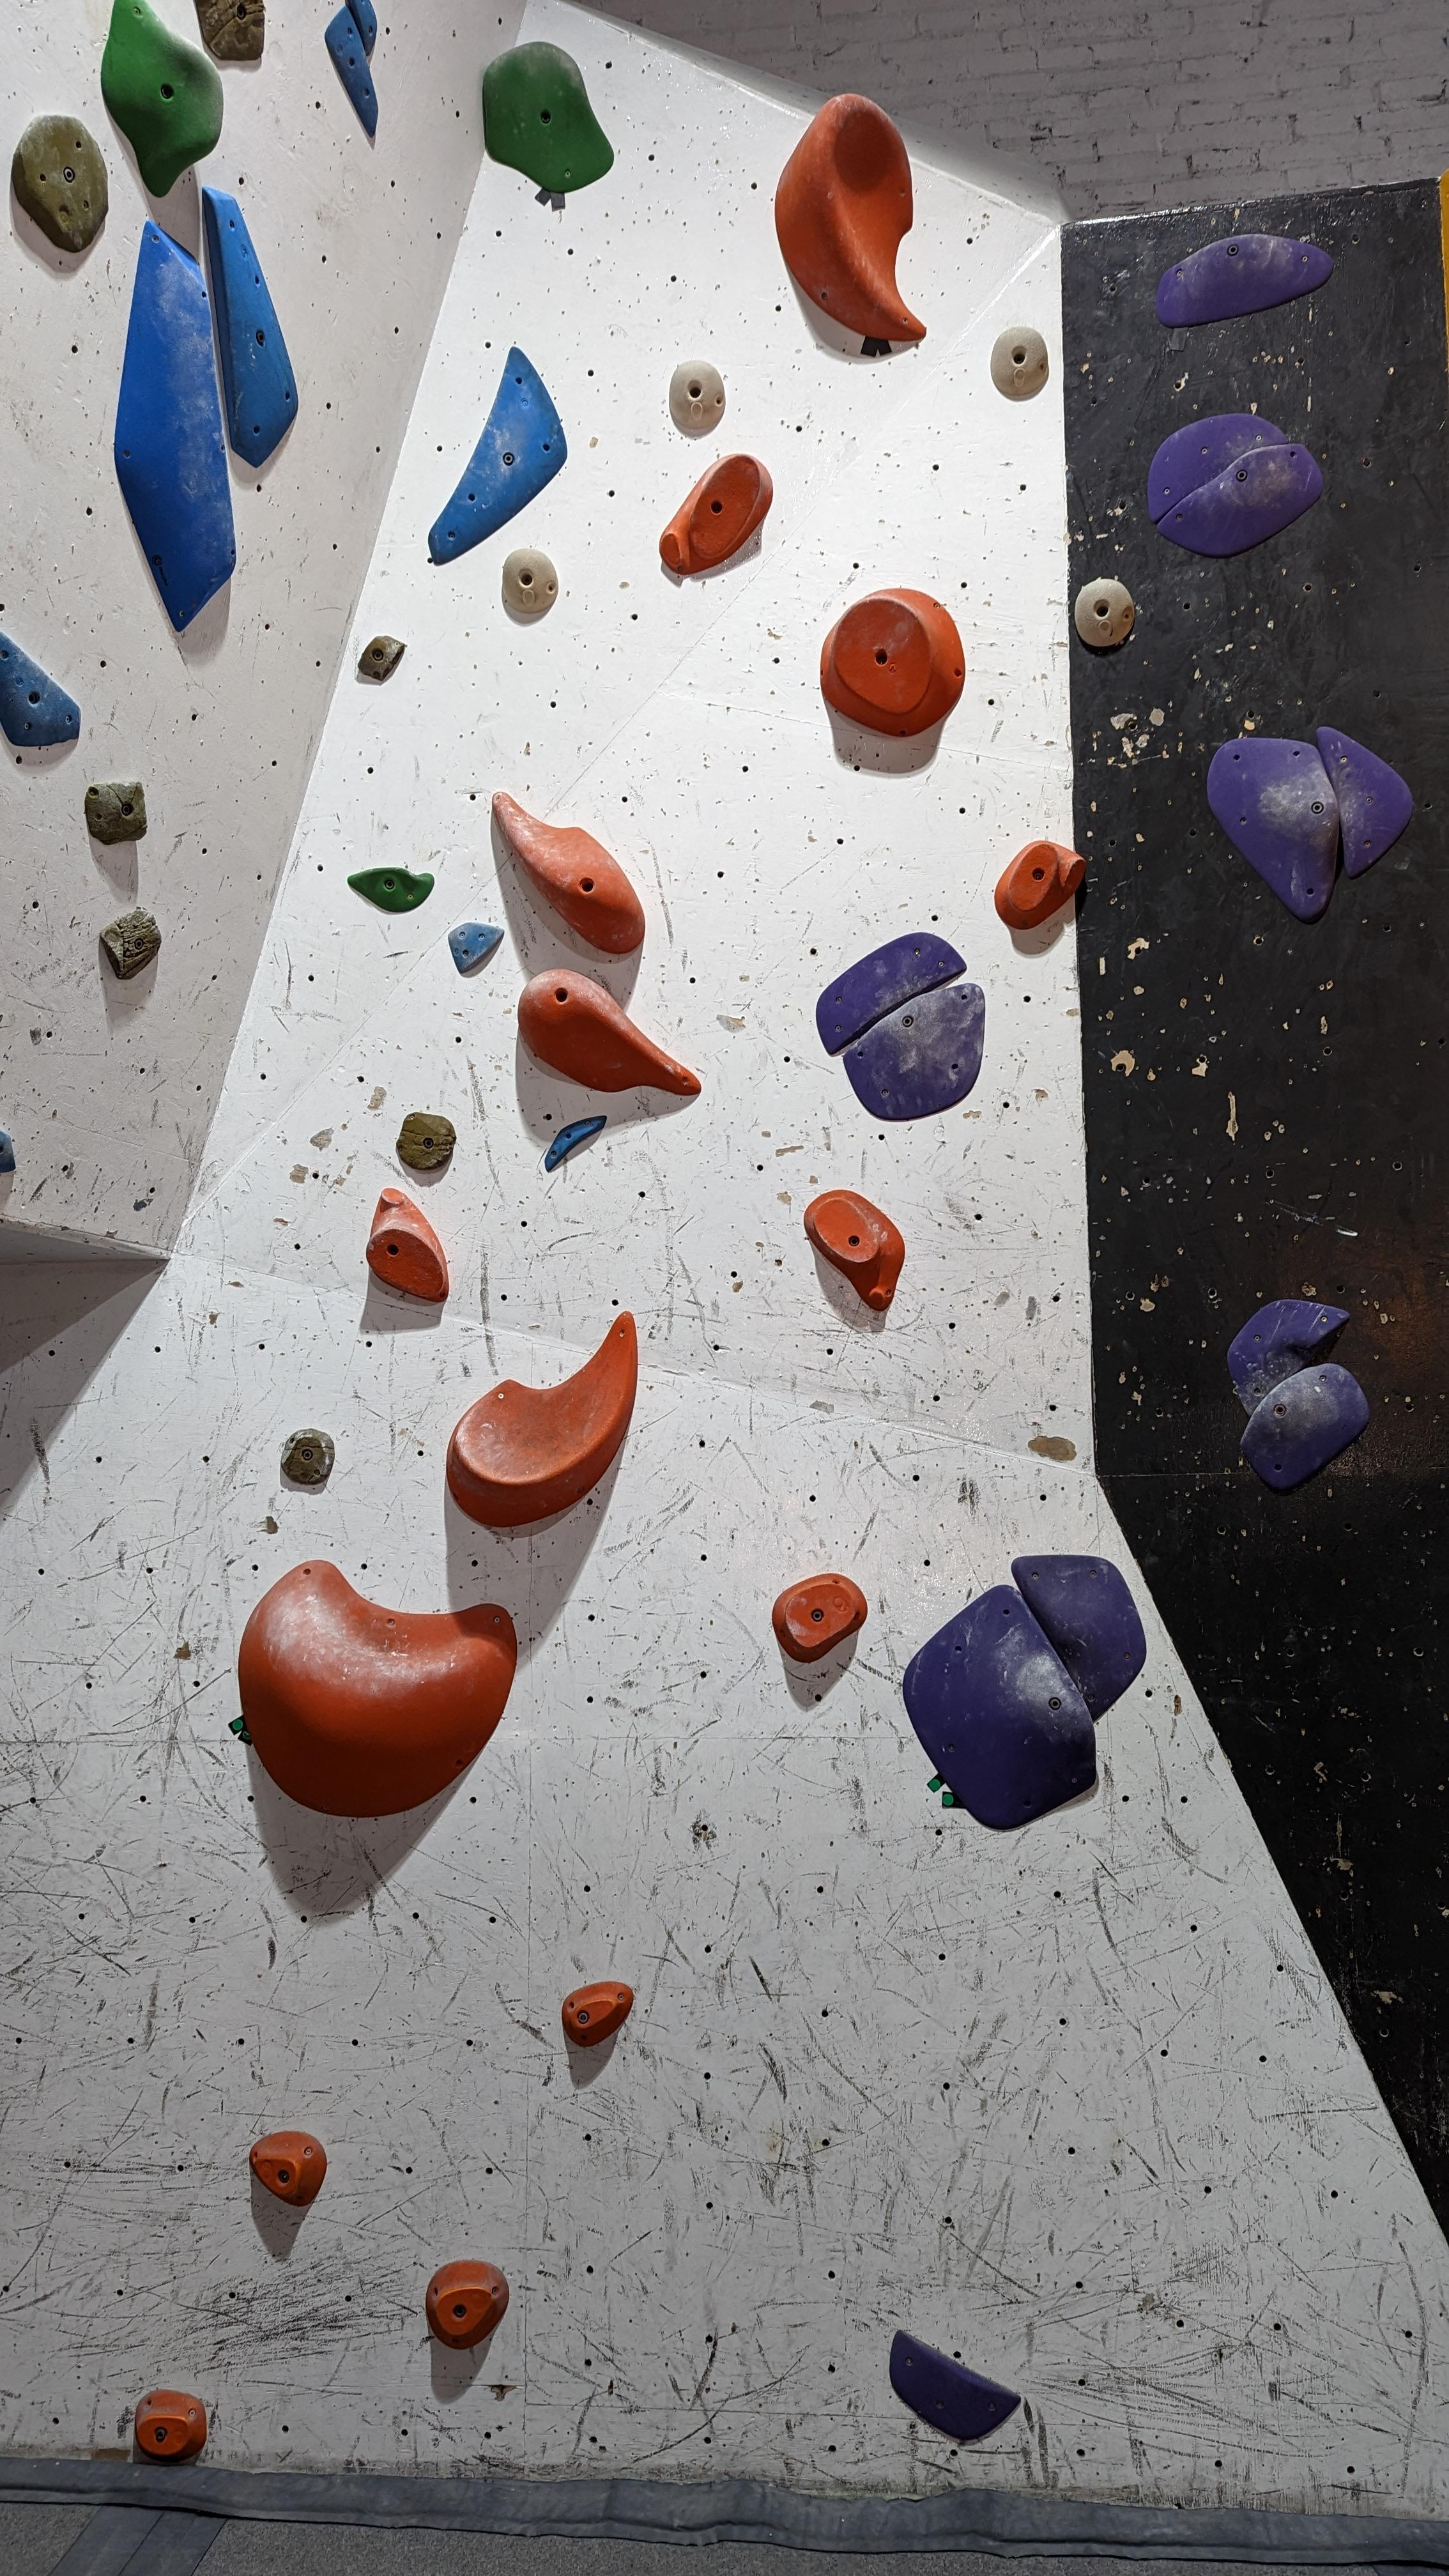hold: (239, 1559, 517, 1817), (113, 219, 235, 632), (902, 1585, 1097, 1829), (446, 1309, 639, 1527), (775, 94, 927, 341), (428, 347, 566, 564), (202, 186, 299, 467), (492, 791, 646, 954), (1207, 738, 1339, 920), (101, 0, 223, 196), (518, 970, 702, 1097), (1010, 1555, 1146, 1721), (819, 587, 964, 738), (842, 982, 985, 1120), (1155, 442, 1323, 557), (816, 932, 968, 1054), (1155, 234, 1334, 329), (1240, 1364, 1369, 1490), (1146, 414, 1288, 522), (1316, 725, 1414, 878), (890, 2330, 1023, 2440), (1228, 1299, 1350, 1417), (658, 453, 773, 575), (11, 115, 108, 253), (803, 1189, 904, 1311), (0, 626, 81, 747), (366, 1187, 449, 1302), (771, 1573, 867, 1661), (994, 840, 1086, 929), (426, 2259, 510, 2350), (324, 5, 379, 138), (249, 2130, 327, 2206), (134, 2388, 207, 2463), (561, 1982, 633, 2047), (99, 909, 161, 980), (195, 0, 265, 60), (1074, 579, 1134, 646), (347, 867, 433, 913), (85, 780, 147, 844), (991, 326, 1047, 395), (669, 361, 725, 430), (502, 548, 557, 614), (396, 1111, 456, 1169), (545, 1115, 607, 1171), (281, 1428, 334, 1484), (448, 922, 504, 973), (357, 635, 405, 681), (345, 0, 377, 57), (0, 1127, 16, 1173)
